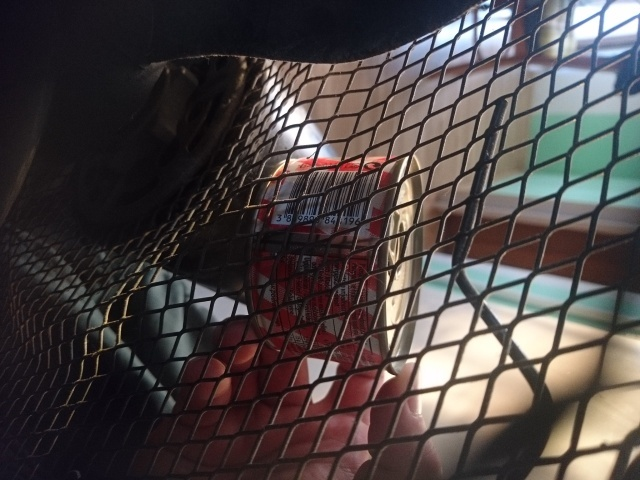Podravka Luncheon Meat 150g: (240, 149, 428, 381)
